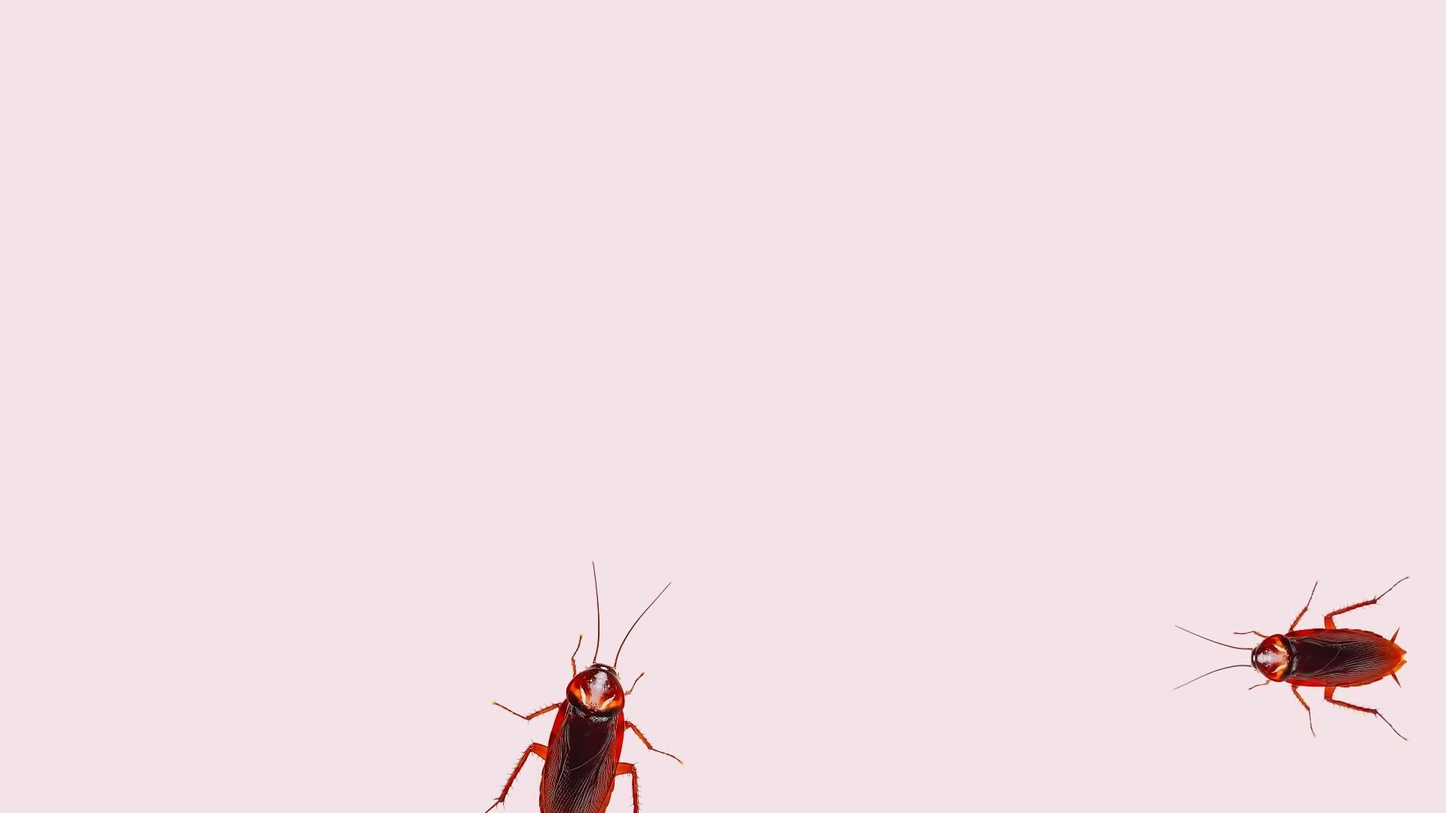cockroach: (513, 604, 670, 813), (1211, 591, 1421, 718)
